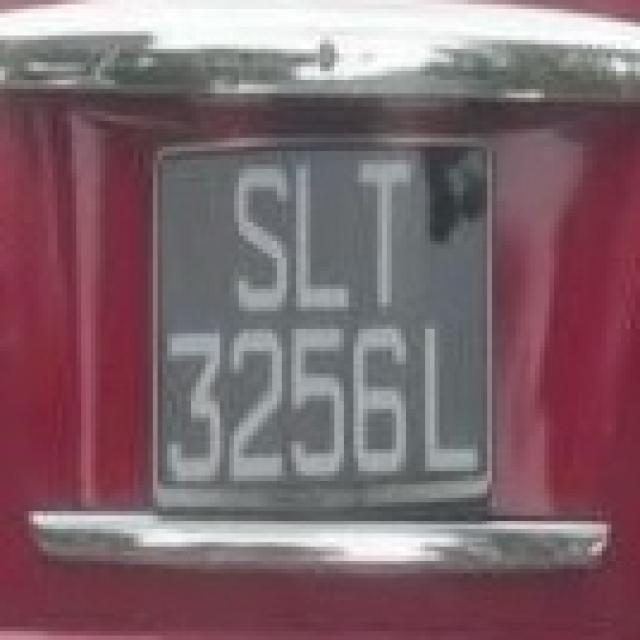2: (224, 326, 290, 481)
3: (157, 328, 226, 481)
5: (290, 322, 346, 476)
6: (348, 326, 410, 476)
L: (290, 160, 356, 314), (418, 326, 483, 474)
S: (227, 159, 291, 317)
T: (355, 162, 418, 309)
